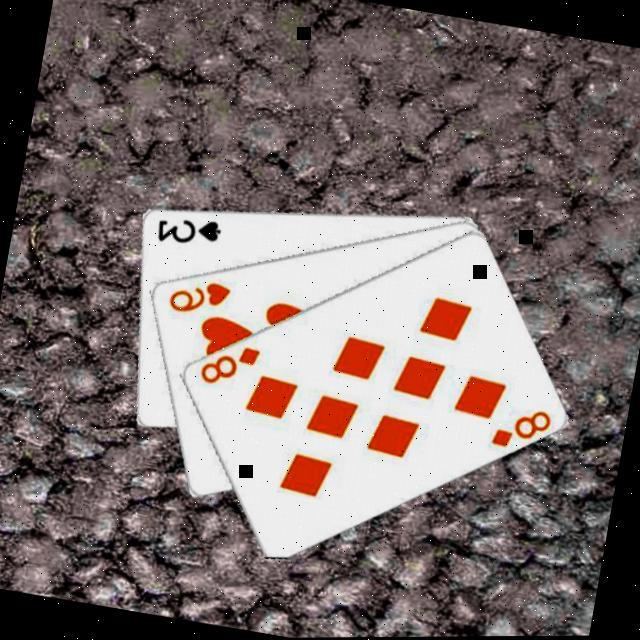3S: (148, 208, 222, 254)
8D: (484, 400, 554, 459), (192, 336, 262, 394)
9H: (160, 271, 232, 324)
